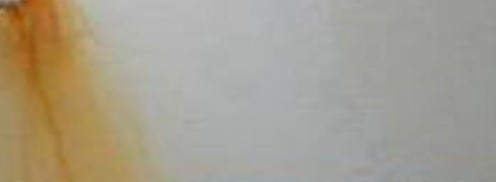Corrosion: (1, 1, 145, 182)
